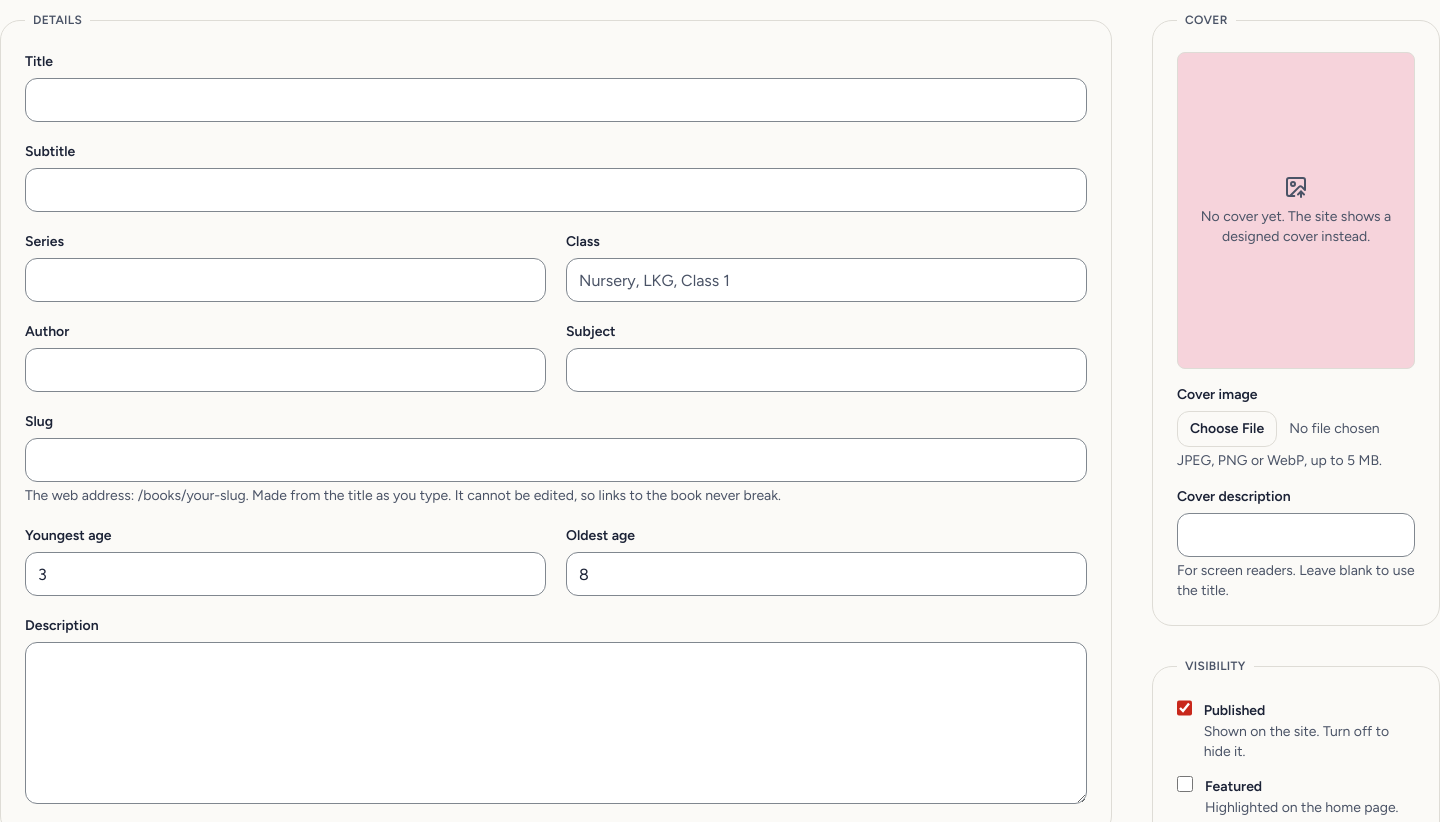
Test: BookForm slug › fills the slug from the title and cannot be edited
Type "Seed to Tree" into the field labelled "Title" at (556, 100), box [25,78,1087,122]
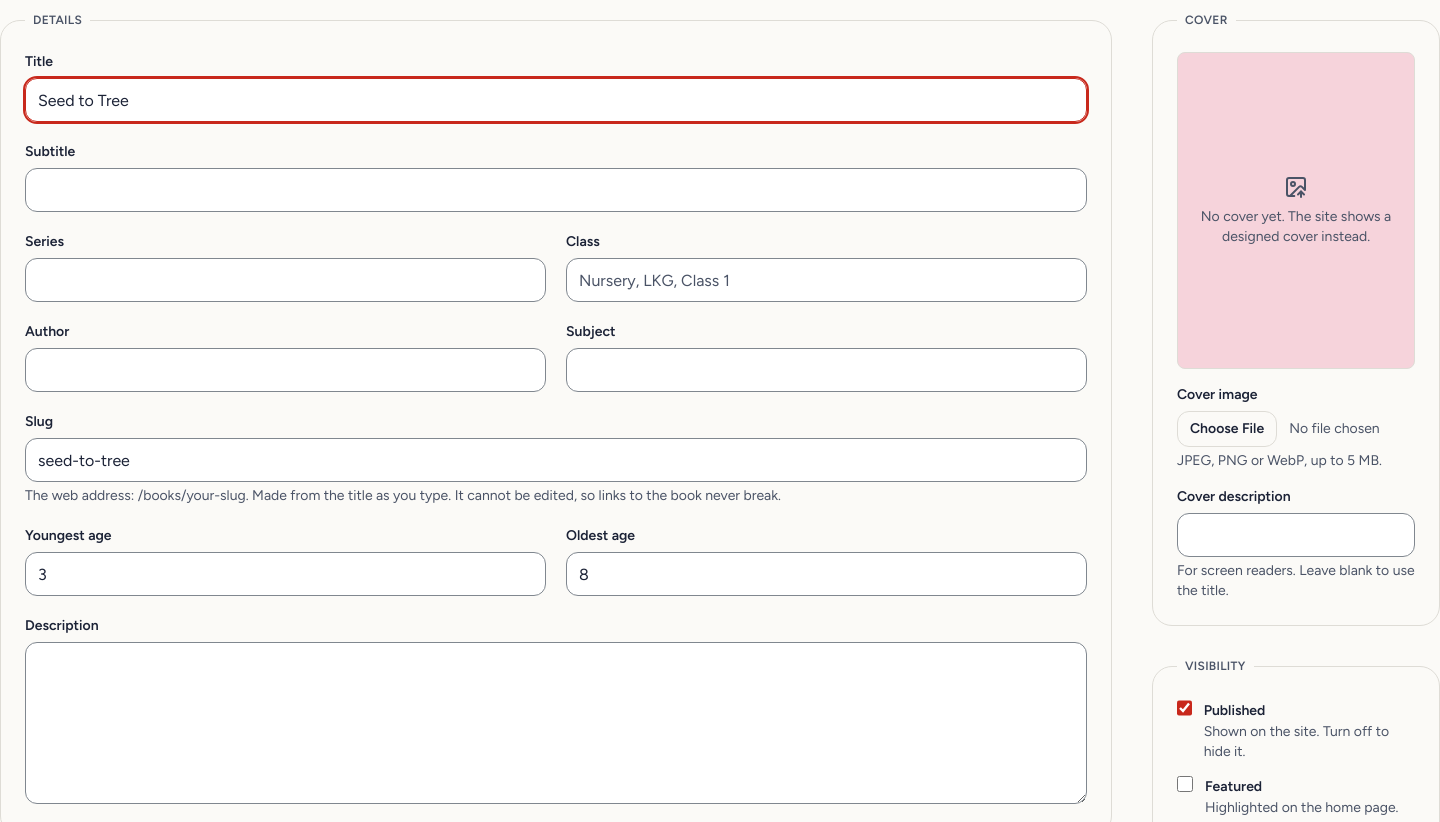
Check: the field labelled "Slug" holds "seed-to-tree", box [25,438,1087,482]
